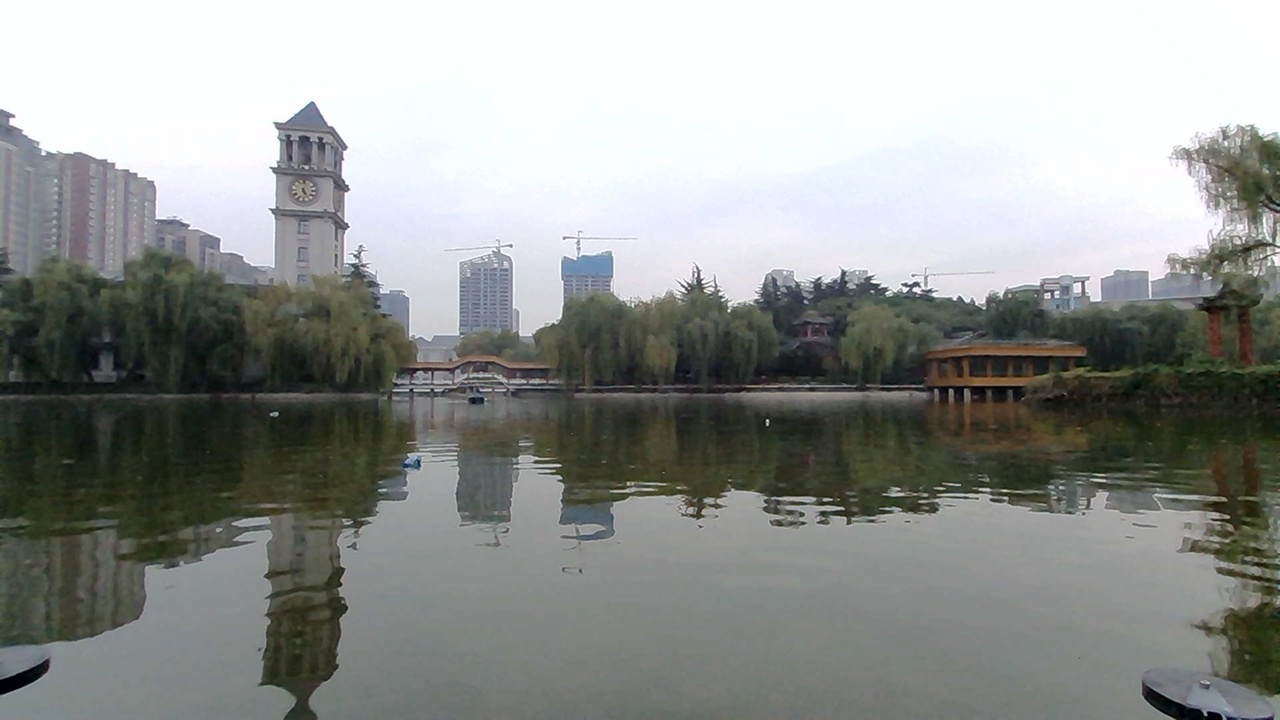bottle: (393, 451, 432, 475), (756, 410, 780, 434), (264, 401, 287, 419)
